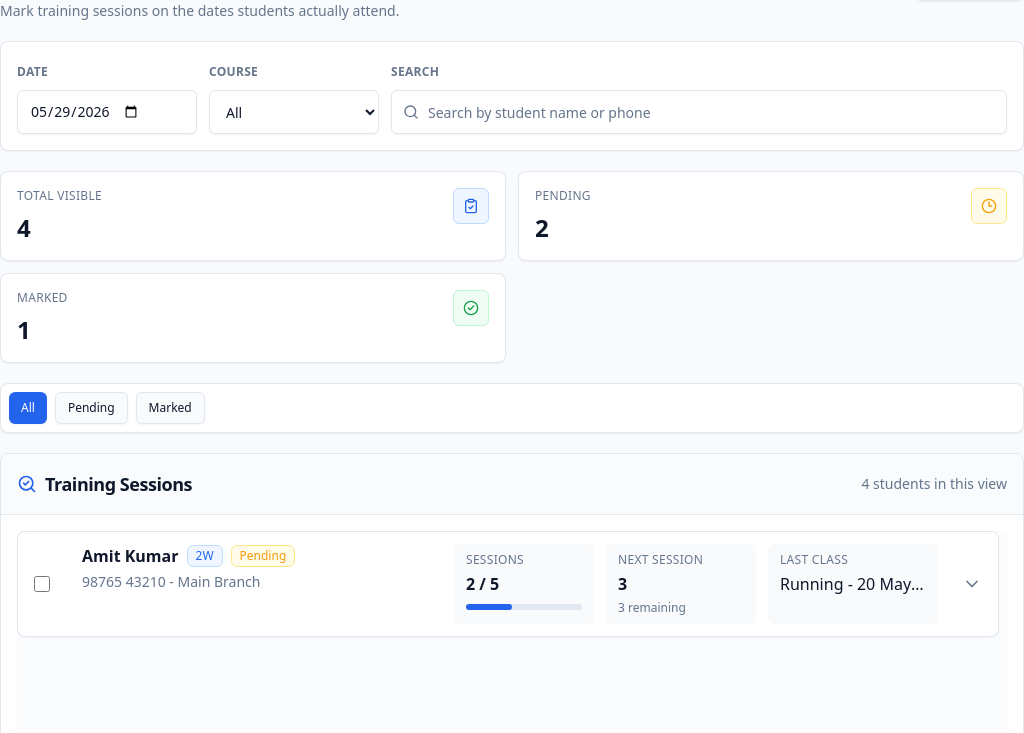
it: AttendancePage › prevents bulk selection across mixed course types
The width and height of the screenshot is (1024, 733).
Check: the text "Amit Kumar" is shown, box [82,544,178,568]
Click the checkbox named "Select Amit Kumar".
click(42, 584)  # box [34,576,50,592]
(page scrolled)
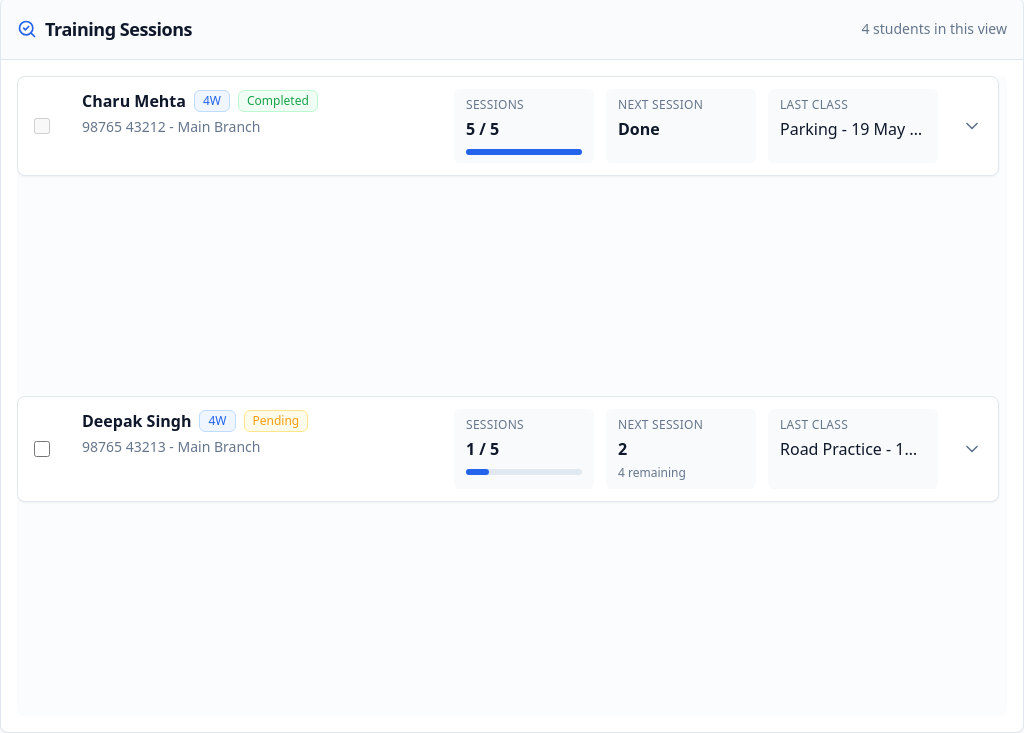
Click the checkbox named "Select Deepak Singh".
click(42, 449)  # box [34,441,50,457]
(page scrolled)
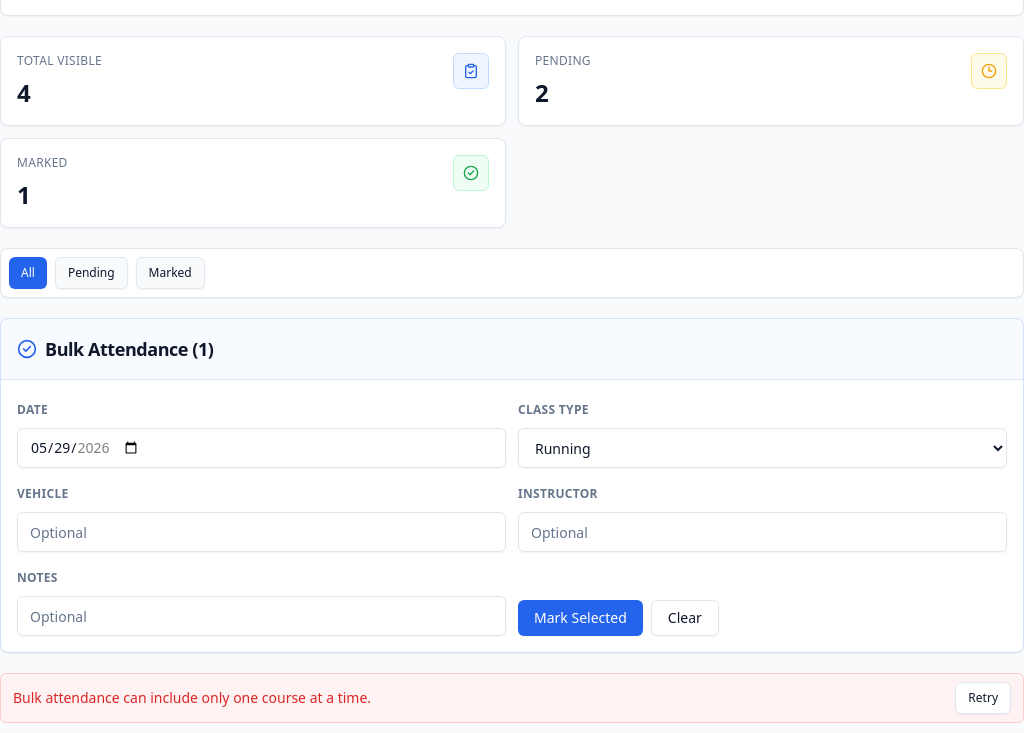
Check: the heading "Bulk Attendance (1)" is shown, box [17,337,213,361]
Check: the text "Bulk attendance can include only one course at a time." is shown, box [13,688,371,708]
